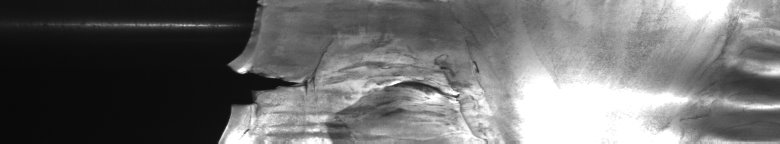ke: (680, 20, 776, 116)
